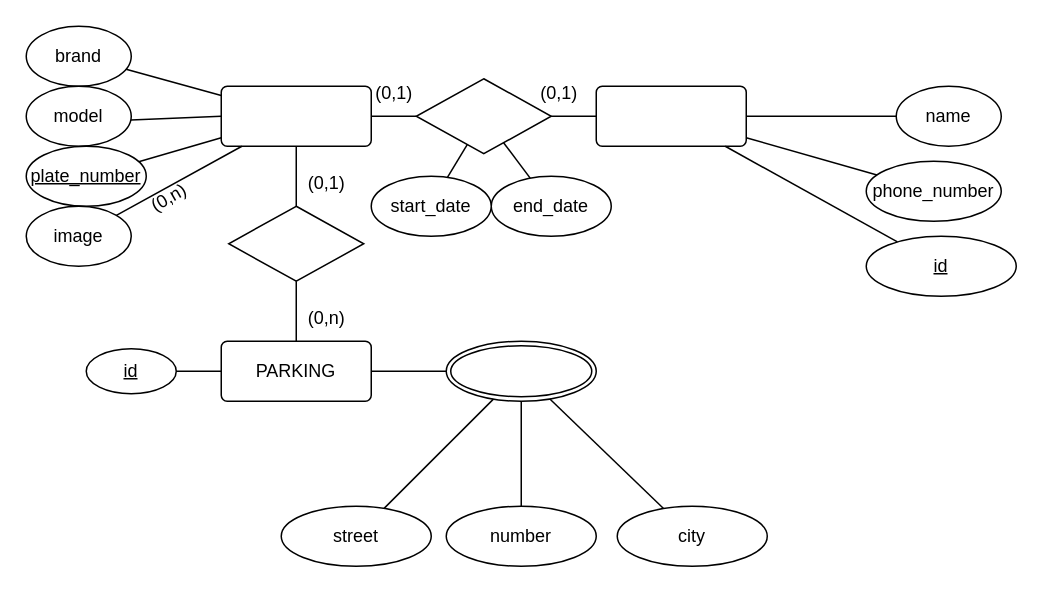
This 1043x593 diagram has some shape labels left out. The centre of each missing label's shape, as x and y in pixels:
"Attribute" goes at (x=520, y=370).
"DRIVER" goes at (x=670, y=115).
"drives" goes at (x=483, y=115).
"park" goes at (x=295, y=243).
"VEHICLE" goes at (x=295, y=115).
